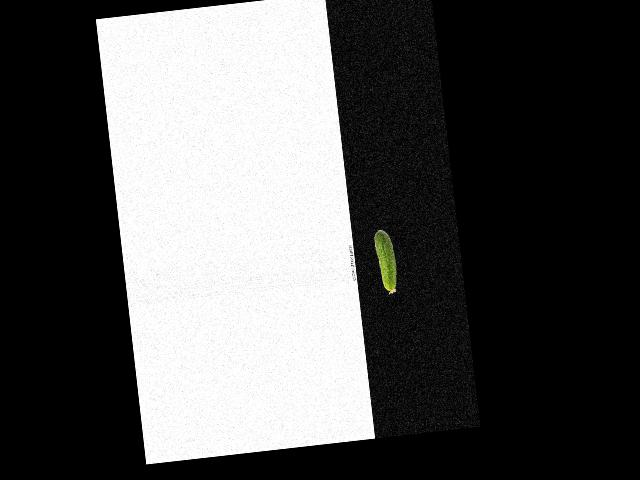cucumber: (373, 228, 399, 294)
